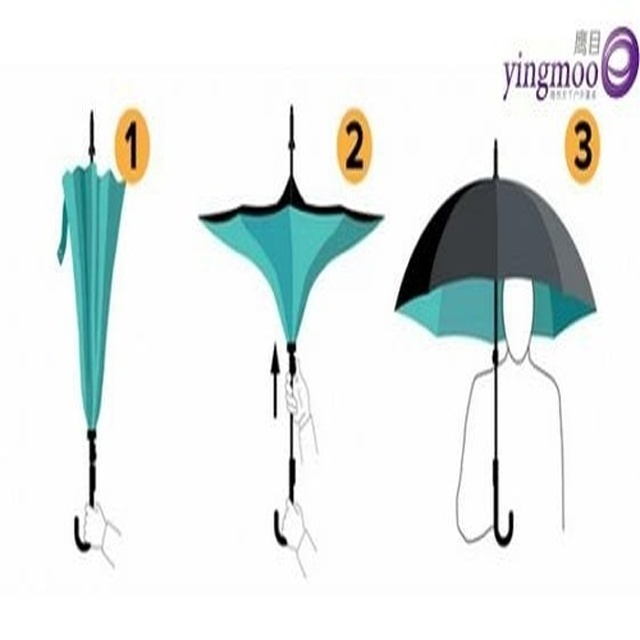umbrella: (392, 135, 602, 552), (195, 100, 388, 550), (54, 105, 131, 563)
